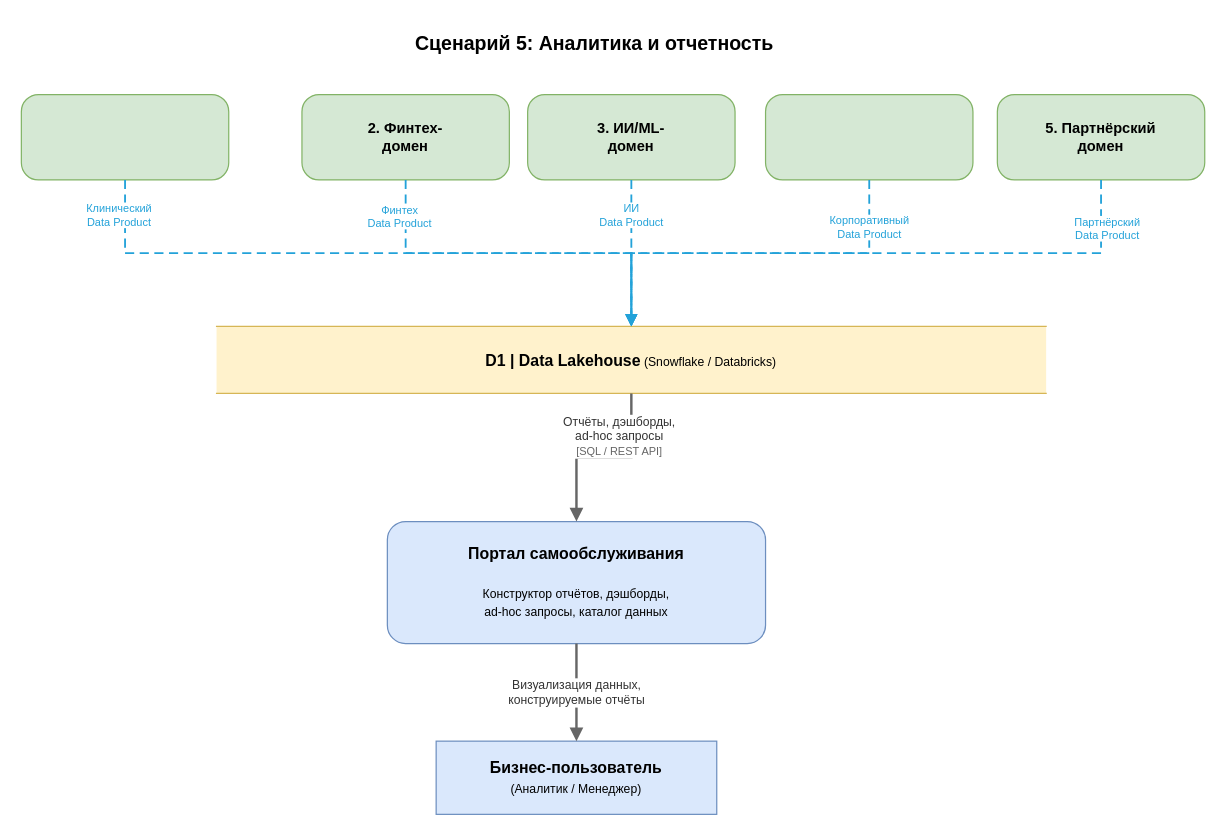
Image size: 1226x836. Some labels were removed from this diagram. The centre of each missing label's shape, as x and y in pixels:
1. Медицинский домен: the point at 124,136
4. Корпоративный домен: the point at 868,136
